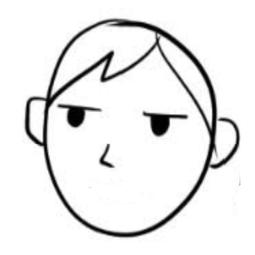ear: (209, 113, 245, 172), (21, 91, 49, 146)
eye: (57, 100, 101, 126), (143, 112, 191, 135)
pointy_nose: (97, 141, 116, 172)
